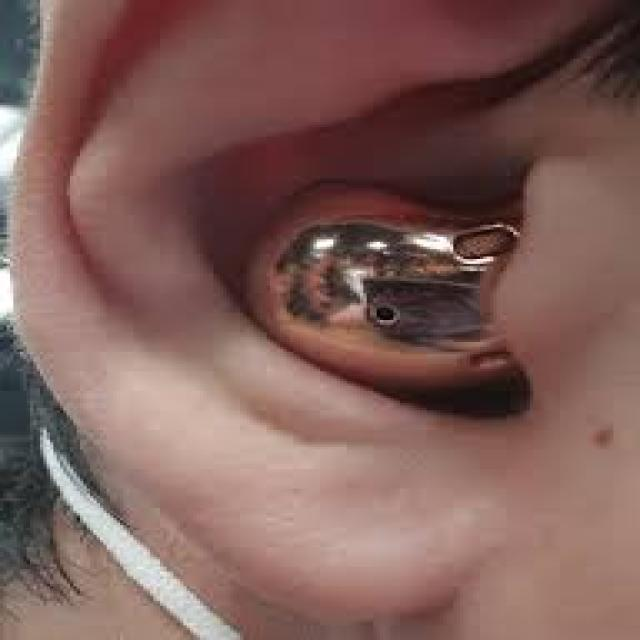earphone: (225, 135, 530, 438)
